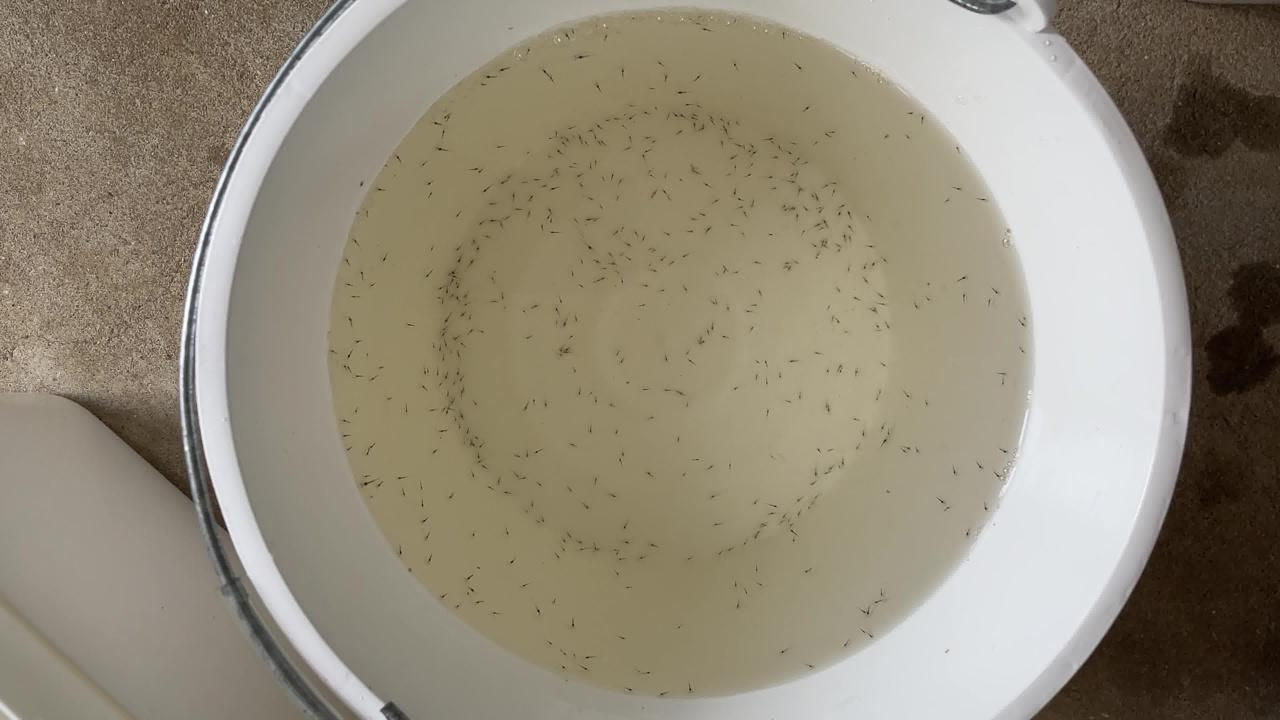shrimp: (653, 56, 665, 64), (658, 69, 670, 77), (642, 83, 654, 91), (674, 87, 686, 95), (689, 73, 701, 81), (679, 98, 691, 106), (692, 101, 704, 109), (661, 112, 673, 120), (615, 66, 627, 74), (591, 81, 603, 89), (599, 114, 611, 122), (611, 113, 623, 121), (615, 120, 627, 128), (624, 113, 636, 121), (624, 103, 636, 111), (640, 107, 652, 115), (646, 104, 658, 112), (673, 112, 685, 120), (673, 125, 685, 133), (687, 122, 699, 130), (687, 115, 699, 123), (687, 111, 699, 119), (694, 122, 706, 130), (705, 117, 717, 125), (702, 111, 714, 119), (712, 115, 724, 123), (722, 118, 734, 126), (728, 117, 740, 125), (720, 124, 732, 132), (716, 137, 728, 145), (722, 133, 734, 141), (730, 140, 742, 148), (735, 140, 747, 148), (728, 151, 740, 159), (728, 159, 740, 167), (743, 144, 755, 152), (744, 148, 756, 156), (761, 133, 773, 141), (763, 137, 775, 145), (773, 142, 785, 150), (771, 150, 783, 158), (780, 148, 792, 156), (788, 140, 800, 148), (806, 138, 818, 146), (791, 152, 803, 160), (786, 155, 798, 163), (798, 157, 810, 165), (792, 170, 804, 178), (785, 168, 797, 176), (785, 176, 797, 184), (764, 171, 776, 179), (769, 182, 781, 190), (742, 171, 754, 179), (743, 161, 755, 169), (720, 170, 732, 178), (818, 181, 830, 189), (828, 180, 840, 188), (828, 188, 840, 196), (793, 184, 805, 192), (778, 202, 790, 210), (778, 205, 790, 213), (784, 204, 796, 212), (790, 214, 802, 222), (802, 205, 814, 213), (804, 191, 816, 199), (812, 191, 824, 199), (812, 201, 824, 209), (814, 205, 826, 213), (833, 199, 845, 207), (833, 206, 845, 214), (844, 208, 856, 216), (843, 221, 855, 229), (838, 229, 850, 237), (843, 233, 855, 241), (833, 239, 845, 247), (832, 244, 844, 252), (811, 250, 823, 258), (804, 241, 816, 249), (794, 227, 806, 235), (809, 217, 821, 225), (812, 224, 824, 232), (819, 217, 831, 225), (816, 232, 828, 240), (817, 238, 829, 246), (793, 259, 805, 267), (782, 257, 794, 265), (779, 263, 791, 271), (785, 265, 797, 273), (765, 230, 777, 238), (750, 257, 762, 265), (738, 228, 750, 236), (728, 220, 740, 228), (738, 211, 750, 219), (744, 195, 756, 203), (736, 202, 748, 210), (734, 195, 746, 203), (727, 190, 739, 198), (710, 194, 722, 202), (699, 181, 711, 189), (686, 165, 698, 173), (645, 193, 657, 201), (658, 190, 670, 198), (686, 216, 698, 224), (696, 213, 708, 221), (701, 223, 713, 231), (681, 225, 693, 233), (658, 170, 670, 178), (641, 164, 653, 172), (644, 170, 656, 178), (635, 153, 647, 161), (639, 149, 651, 157), (649, 138, 661, 146), (642, 134, 654, 142), (625, 134, 637, 142), (622, 141, 634, 149), (593, 119, 605, 127), (584, 125, 596, 133), (587, 131, 599, 139), (591, 138, 603, 146), (595, 138, 607, 146), (569, 122, 581, 130), (572, 129, 584, 137), (581, 135, 593, 143), (553, 126, 565, 134), (545, 132, 557, 140), (561, 132, 573, 140), (560, 137, 572, 145), (554, 145, 566, 153), (543, 151, 555, 159), (569, 157, 581, 165), (565, 162, 577, 170), (575, 169, 587, 177), (581, 159, 593, 167), (588, 158, 600, 166), (595, 174, 607, 182), (604, 171, 616, 179), (611, 176, 623, 184), (612, 190, 624, 198), (576, 178, 588, 186), (584, 193, 596, 201), (595, 197, 607, 205), (568, 217, 580, 225), (578, 214, 590, 222), (588, 214, 600, 222), (548, 228, 560, 236), (534, 224, 546, 232), (543, 219, 555, 227), (540, 216, 552, 224), (545, 209, 557, 217), (546, 182, 558, 190), (549, 163, 561, 171), (533, 175, 545, 183), (521, 176, 533, 184), (508, 191, 520, 199), (510, 203, 522, 211), (523, 210, 535, 218), (523, 194, 535, 202), (505, 171, 517, 179), (498, 176, 510, 184), (482, 183, 494, 191), (485, 197, 497, 205), (474, 220, 486, 228), (485, 215, 497, 223), (492, 222, 504, 230), (500, 214, 512, 222), (480, 231, 492, 239), (469, 236, 481, 244), (469, 244, 481, 252), (452, 242, 464, 250), (452, 251, 464, 259), (463, 259, 475, 267), (449, 264, 461, 272), (449, 270, 461, 278), (446, 275, 458, 283), (435, 280, 447, 288), (440, 286, 452, 294), (451, 282, 463, 290), (429, 293, 441, 301), (433, 296, 445, 304), (448, 292, 460, 300), (456, 290, 468, 298), (458, 296, 470, 304), (455, 307, 467, 315), (460, 310, 472, 318), (442, 311, 454, 319), (462, 326, 474, 334), (470, 327, 482, 335), (439, 321, 451, 329), (436, 326, 448, 334), (424, 340, 436, 348), (434, 345, 446, 353), (437, 335, 449, 343), (451, 331, 463, 339), (456, 339, 468, 347), (454, 348, 466, 356), (436, 355, 448, 363), (417, 368, 429, 376), (422, 365, 434, 373), (418, 382, 430, 390), (434, 367, 446, 375), (436, 377, 448, 385), (441, 369, 453, 377), (449, 365, 461, 373), (455, 371, 467, 379), (447, 378, 459, 386), (442, 387, 454, 395), (424, 405, 436, 413), (455, 386, 467, 394), (447, 394, 459, 402), (440, 402, 452, 410), (439, 407, 451, 415), (465, 399, 477, 407), (458, 411, 470, 419), (451, 413, 463, 421), (453, 421, 465, 429), (434, 425, 446, 433), (428, 448, 440, 456), (460, 425, 472, 433), (469, 432, 481, 440), (467, 436, 479, 444), (476, 439, 488, 447), (471, 449, 483, 457), (472, 454, 484, 462), (477, 460, 489, 468), (467, 470, 479, 478), (490, 477, 502, 485), (486, 482, 498, 490), (484, 299, 496, 307), (495, 292, 507, 300), (483, 275, 495, 283), (484, 267, 496, 275), (441, 494, 453, 502), (501, 488, 513, 496), (507, 469, 519, 477), (513, 472, 525, 480), (525, 300, 537, 308), (520, 331, 532, 339), (550, 304, 562, 312), (550, 316, 562, 324), (558, 319, 570, 327), (515, 306, 527, 314), (553, 295, 565, 303), (566, 313, 578, 321), (569, 268, 581, 276), (570, 281, 582, 289), (591, 276, 603, 284), (577, 255, 589, 263), (582, 244, 594, 252), (587, 256, 599, 264), (595, 263, 607, 271), (616, 277, 628, 285), (612, 265, 624, 273), (609, 257, 621, 265), (604, 251, 616, 259), (613, 249, 625, 257), (619, 255, 631, 263), (606, 227, 618, 235), (613, 224, 625, 232), (618, 239, 630, 247), (627, 227, 639, 235), (633, 233, 645, 241), (658, 228, 670, 236), (639, 242, 651, 250), (645, 244, 657, 252), (645, 258, 657, 266), (643, 265, 655, 273), (653, 253, 665, 261), (662, 259, 674, 267), (676, 247, 688, 255), (638, 280, 650, 288), (634, 302, 646, 310), (656, 286, 668, 294), (675, 283, 687, 291), (710, 266, 722, 274), (716, 266, 728, 274), (718, 260, 730, 268), (727, 268, 739, 276), (754, 285, 766, 293), (746, 299, 758, 307), (740, 307, 752, 315), (746, 323, 758, 331), (722, 303, 734, 311), (702, 299, 714, 307), (707, 294, 719, 302), (707, 320, 719, 328), (715, 332, 727, 340), (702, 326, 714, 334), (694, 331, 706, 339), (694, 337, 706, 345), (681, 345, 693, 353), (682, 358, 694, 366), (663, 356, 675, 364), (617, 357, 629, 365), (609, 352, 621, 360), (566, 331, 578, 339), (553, 345, 565, 353), (558, 349, 570, 357), (569, 365, 581, 373), (517, 405, 529, 413), (525, 399, 537, 407), (536, 400, 548, 408), (571, 386, 583, 394), (582, 388, 594, 396), (589, 396, 601, 404), (603, 402, 615, 410), (620, 378, 632, 386), (636, 385, 648, 393), (657, 387, 669, 395), (670, 388, 682, 396), (681, 399, 693, 407), (648, 411, 660, 419), (608, 427, 620, 435), (582, 427, 594, 435), (563, 440, 575, 448), (532, 446, 544, 454), (520, 450, 532, 458), (510, 451, 522, 459), (614, 447, 626, 455), (612, 455, 624, 463), (639, 468, 651, 476), (689, 456, 701, 464), (678, 471, 690, 479), (669, 434, 681, 442), (588, 473, 600, 481), (603, 490, 615, 498), (579, 501, 591, 509), (563, 482, 575, 490), (532, 477, 544, 485), (528, 499, 540, 507), (528, 517, 540, 525), (536, 515, 548, 523), (549, 554, 561, 562), (554, 547, 566, 555), (559, 535, 571, 543), (562, 530, 574, 538), (572, 537, 584, 545), (574, 544, 586, 552), (587, 541, 599, 549), (608, 567, 620, 575), (618, 583, 630, 591), (616, 554, 628, 562), (610, 546, 622, 554), (620, 537, 632, 545), (618, 522, 630, 530), (642, 542, 654, 550), (636, 554, 648, 562), (682, 552, 694, 560), (705, 521, 717, 529), (707, 493, 719, 501), (697, 461, 709, 469), (719, 463, 731, 471), (748, 498, 760, 506), (709, 551, 721, 559), (720, 548, 732, 556), (738, 542, 750, 550), (750, 534, 762, 542), (755, 523, 767, 531), (763, 511, 775, 519), (762, 503, 774, 511), (776, 508, 788, 516), (775, 518, 787, 526), (784, 517, 796, 525), (785, 527, 797, 535), (786, 537, 798, 545), (795, 495, 807, 503), (792, 509, 804, 517), (803, 503, 815, 511), (812, 493, 824, 501), (807, 480, 819, 488), (807, 472, 819, 480), (821, 471, 833, 479), (820, 464, 832, 472), (830, 464, 842, 472), (835, 463, 847, 471), (827, 445, 839, 453), (814, 446, 826, 454), (762, 409, 774, 417), (729, 383, 741, 391), (748, 373, 760, 381), (758, 379, 770, 387), (751, 358, 763, 366), (758, 361, 770, 369), (770, 370, 782, 378), (778, 397, 790, 405), (792, 391, 804, 399), (785, 360, 797, 368), (808, 349, 820, 357), (821, 403, 833, 411), (818, 366, 830, 374), (829, 364, 841, 372), (836, 367, 848, 375), (852, 366, 864, 374), (845, 416, 857, 424), (855, 430, 867, 438), (852, 443, 864, 451), (878, 437, 890, 445), (884, 428, 896, 436), (877, 421, 889, 429), (871, 391, 883, 399), (877, 360, 889, 368), (896, 390, 908, 398), (917, 397, 929, 405), (896, 449, 908, 457), (897, 441, 909, 449), (911, 446, 923, 454), (821, 304, 833, 312), (823, 317, 835, 325), (831, 317, 843, 325), (870, 319, 882, 327), (871, 325, 883, 333), (879, 321, 891, 329), (868, 307, 880, 315), (851, 295, 863, 303), (830, 287, 842, 295), (843, 264, 855, 272), (856, 274, 868, 282), (873, 286, 885, 294), (873, 297, 885, 305), (857, 261, 869, 269), (870, 263, 882, 271), (877, 256, 889, 264), (865, 239, 877, 247), (860, 212, 872, 220), (911, 303, 923, 311), (920, 293, 932, 301), (918, 279, 930, 287), (957, 272, 969, 280), (959, 288, 971, 296), (982, 301, 994, 309), (986, 287, 998, 295), (1020, 317, 1032, 325), (1019, 346, 1031, 354), (997, 369, 1009, 377), (997, 376, 1009, 384), (997, 445, 1009, 453), (992, 469, 1004, 477), (974, 461, 986, 469), (947, 470, 959, 478), (932, 497, 944, 505), (936, 504, 948, 512), (957, 529, 969, 537), (980, 504, 992, 512), (977, 198, 989, 206), (953, 184, 965, 192), (940, 194, 952, 202), (949, 148, 961, 156), (917, 116, 929, 124), (903, 108, 915, 116), (899, 132, 911, 140), (880, 131, 892, 139), (848, 66, 860, 74), (800, 103, 812, 111), (820, 131, 832, 139), (824, 125, 836, 133), (794, 63, 806, 71), (776, 27, 788, 35), (730, 61, 742, 69), (702, 28, 714, 36), (690, 17, 702, 25), (600, 30, 612, 38), (578, 51, 590, 59), (538, 70, 550, 78), (557, 33, 569, 41), (567, 27, 579, 35), (525, 44, 537, 52), (500, 63, 512, 71), (486, 70, 498, 78), (478, 79, 490, 87), (428, 119, 440, 127), (441, 113, 453, 121), (438, 126, 450, 134), (437, 146, 449, 154), (466, 167, 478, 175), (473, 166, 485, 174), (496, 144, 508, 152), (522, 148, 534, 156), (421, 158, 433, 166), (421, 176, 433, 184), (423, 189, 435, 197), (448, 209, 460, 217), (424, 241, 436, 249), (419, 270, 431, 278), (375, 255, 387, 263), (371, 185, 383, 193), (392, 156, 404, 164), (361, 209, 373, 217), (348, 239, 360, 247), (342, 256, 354, 264), (356, 269, 368, 277), (342, 280, 354, 288), (350, 290, 362, 298), (368, 279, 380, 287), (405, 319, 417, 327), (343, 313, 355, 321), (326, 347, 338, 355), (343, 348, 355, 356), (355, 334, 367, 342), (337, 363, 349, 371), (341, 363, 353, 371), (350, 370, 362, 378), (364, 375, 376, 383), (374, 364, 386, 372), (362, 351, 374, 359), (351, 404, 363, 412), (379, 395, 391, 403), (399, 402, 411, 410), (340, 418, 352, 426), (340, 428, 352, 436), (341, 442, 353, 450), (366, 443, 378, 451), (360, 468, 372, 476), (360, 477, 372, 485), (373, 481, 385, 489), (391, 471, 403, 479), (395, 486, 407, 494), (413, 481, 425, 489), (417, 495, 429, 503), (418, 510, 430, 518), (420, 526, 432, 534), (424, 557, 436, 565), (392, 548, 404, 556), (434, 589, 446, 597), (448, 602, 460, 610), (461, 570, 473, 578), (466, 582, 478, 590), (461, 588, 473, 596), (469, 598, 481, 606), (481, 607, 493, 615), (463, 529, 475, 537), (501, 526, 513, 534), (505, 557, 517, 565), (517, 581, 529, 589), (530, 607, 542, 615), (547, 596, 559, 604), (562, 616, 574, 624), (543, 641, 555, 649), (552, 647, 564, 655), (555, 662, 567, 670), (567, 647, 579, 655), (574, 663, 586, 671), (579, 654, 591, 662), (639, 668, 651, 676), (626, 685, 638, 693), (612, 632, 624, 640), (654, 690, 666, 698), (680, 686, 692, 694), (674, 621, 686, 629), (730, 600, 742, 608), (726, 577, 738, 585), (739, 587, 751, 595), (751, 581, 763, 589), (750, 561, 762, 569), (800, 563, 812, 571), (775, 645, 787, 653), (804, 663, 816, 671), (838, 640, 850, 648), (863, 630, 875, 638), (853, 606, 865, 614), (860, 605, 872, 613), (873, 595, 885, 603), (874, 584, 886, 592), (764, 452, 776, 460)
